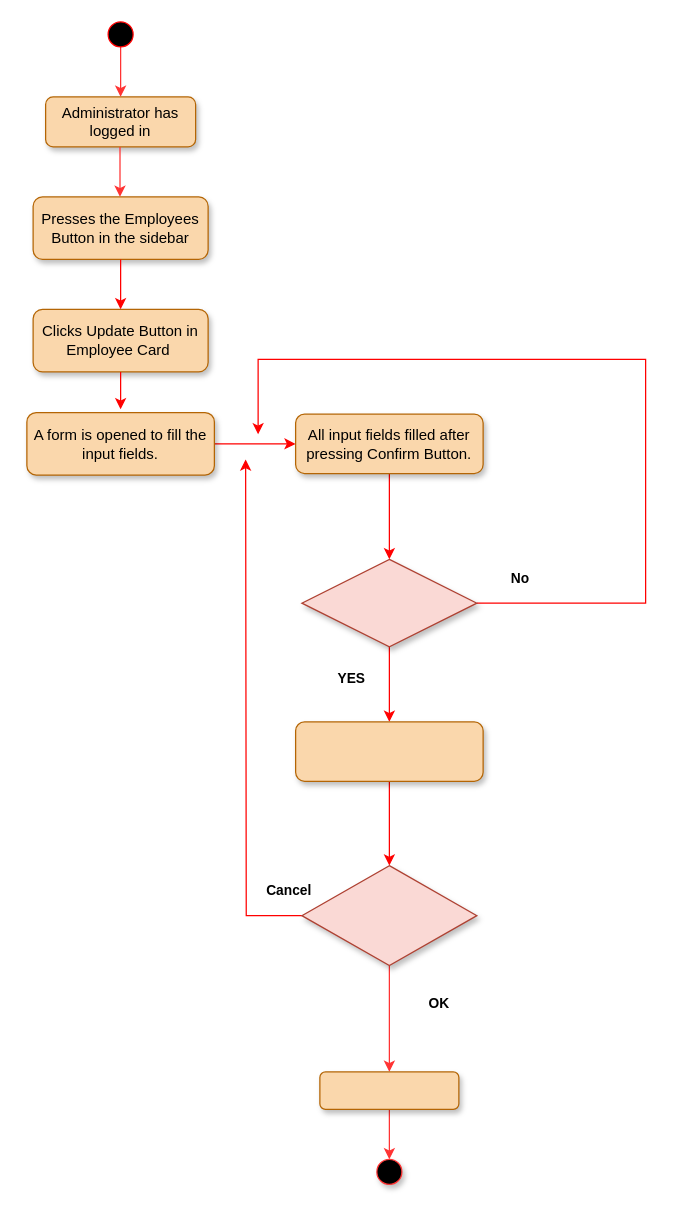
Some shapes in this 678 by 1215 pixel diagram are drawn without their labels. The centre of each missing label's shape, as x and y in pixels:
Confirmation Box: the point at 390,753
Employee Updated: the point at 390,1092
